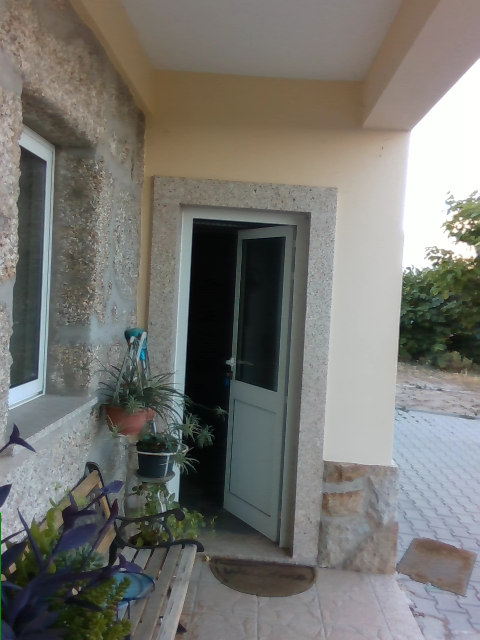semi: (168, 202, 308, 551)
